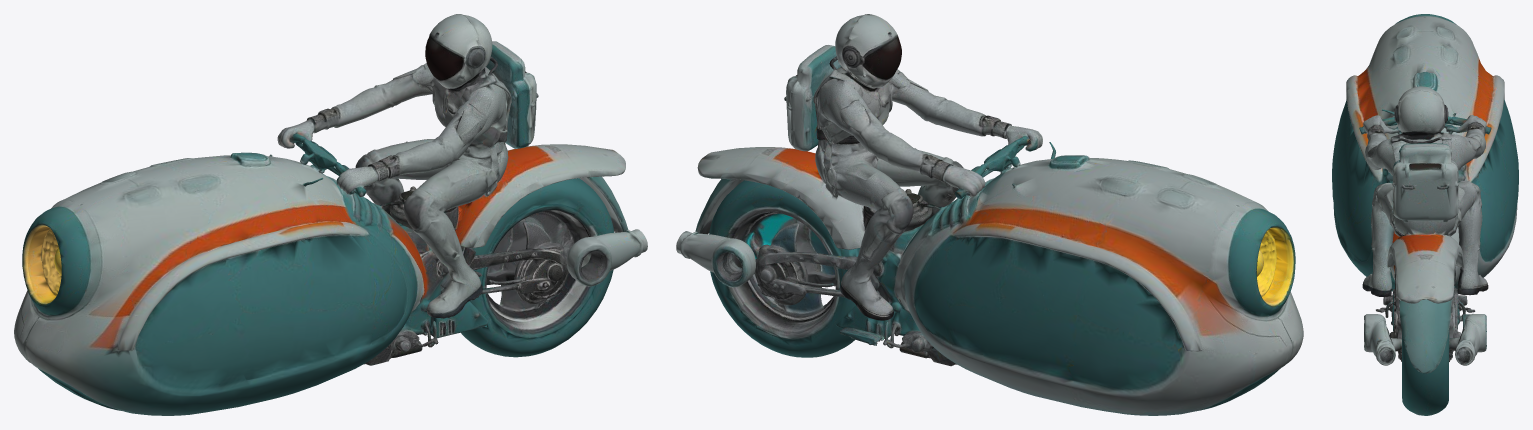
File: bike_rider.glb
3 views of the same model, side by side, from view 1: azimuth 30°, elevation 25°; view 2: azimuth 150°, elevation 25°; view 3: azimuth 270°, elevation 25° (orthographic). The views are drawn at different scales.
Size of the model in its own units: 1.9 by 1.07 by 0.6217.
1 material, 1 textured.
